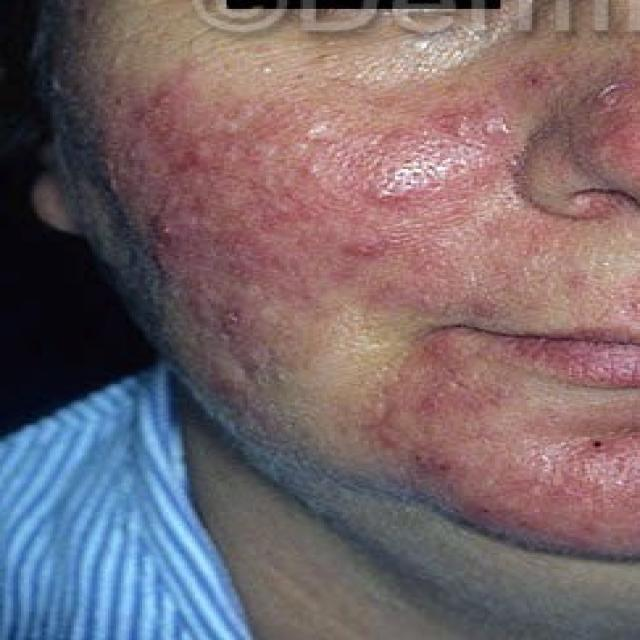Rosacea: (113, 116, 494, 292)
